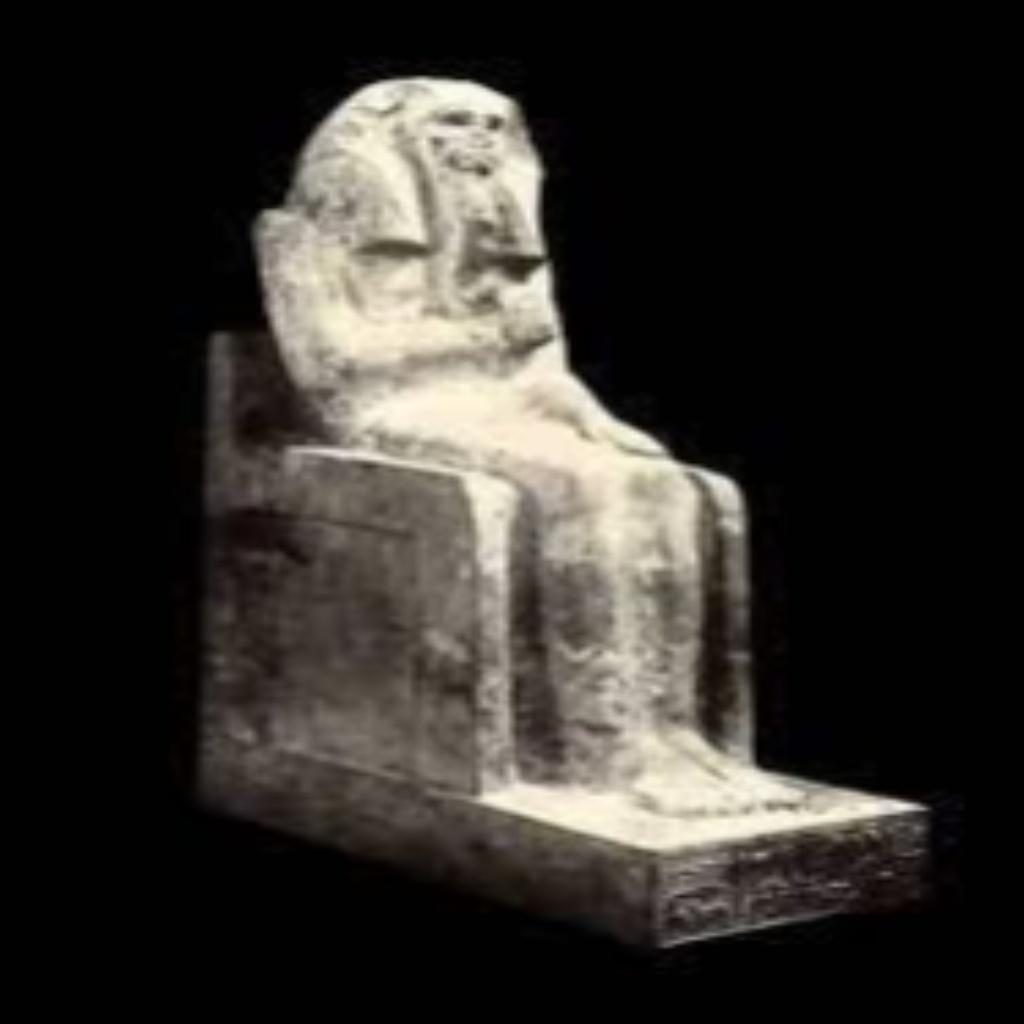Statue of King Zoser: (170, 64, 942, 952)
